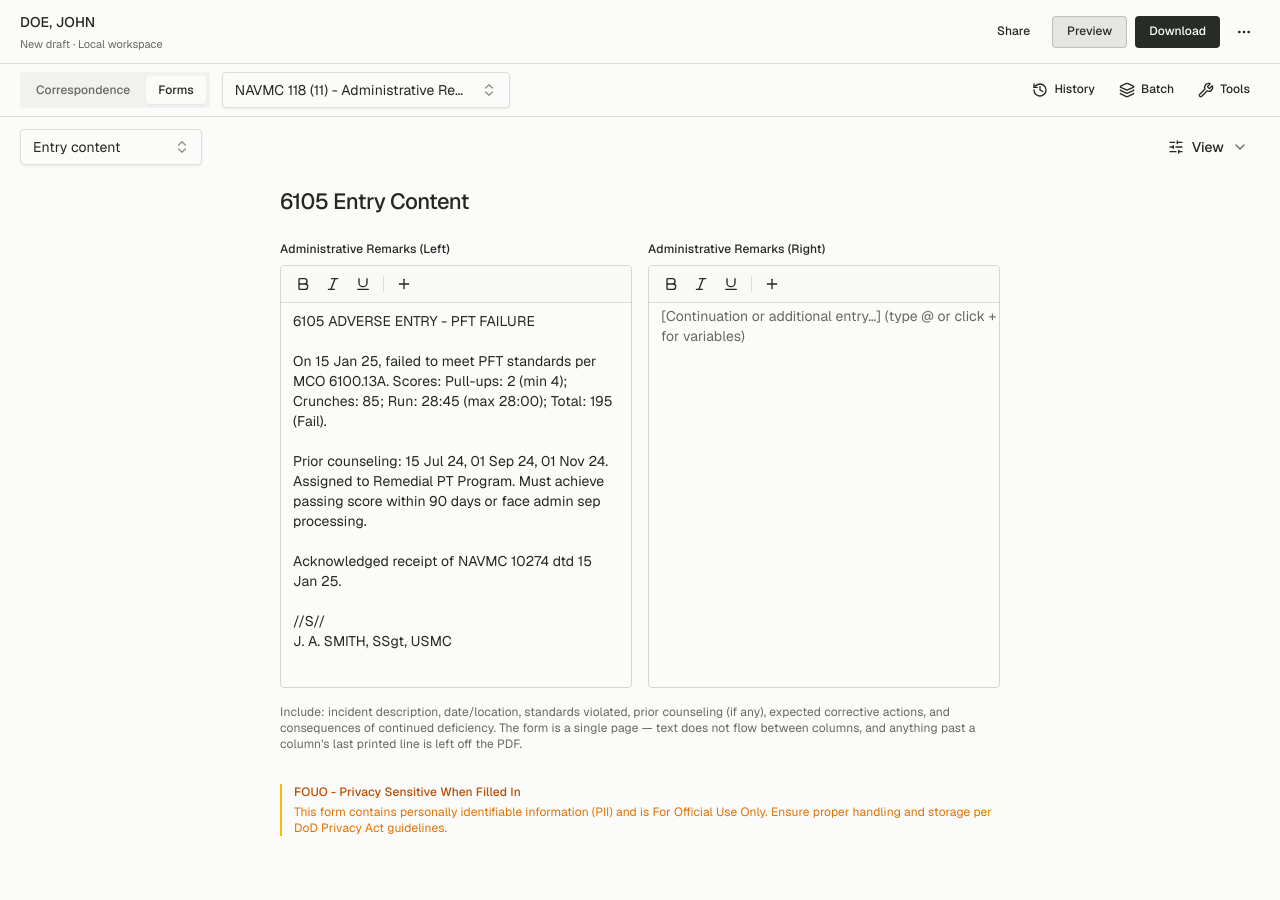
focused workspace editor › keeps all navmc_118_11 sections reachable without showing the entire form at once
Expected: the element with id "sec-content" is shown, [280,185,1000,768]
Select "Signatures" in the dropdown named "Document section" at (111, 147), box [20,129,202,165]
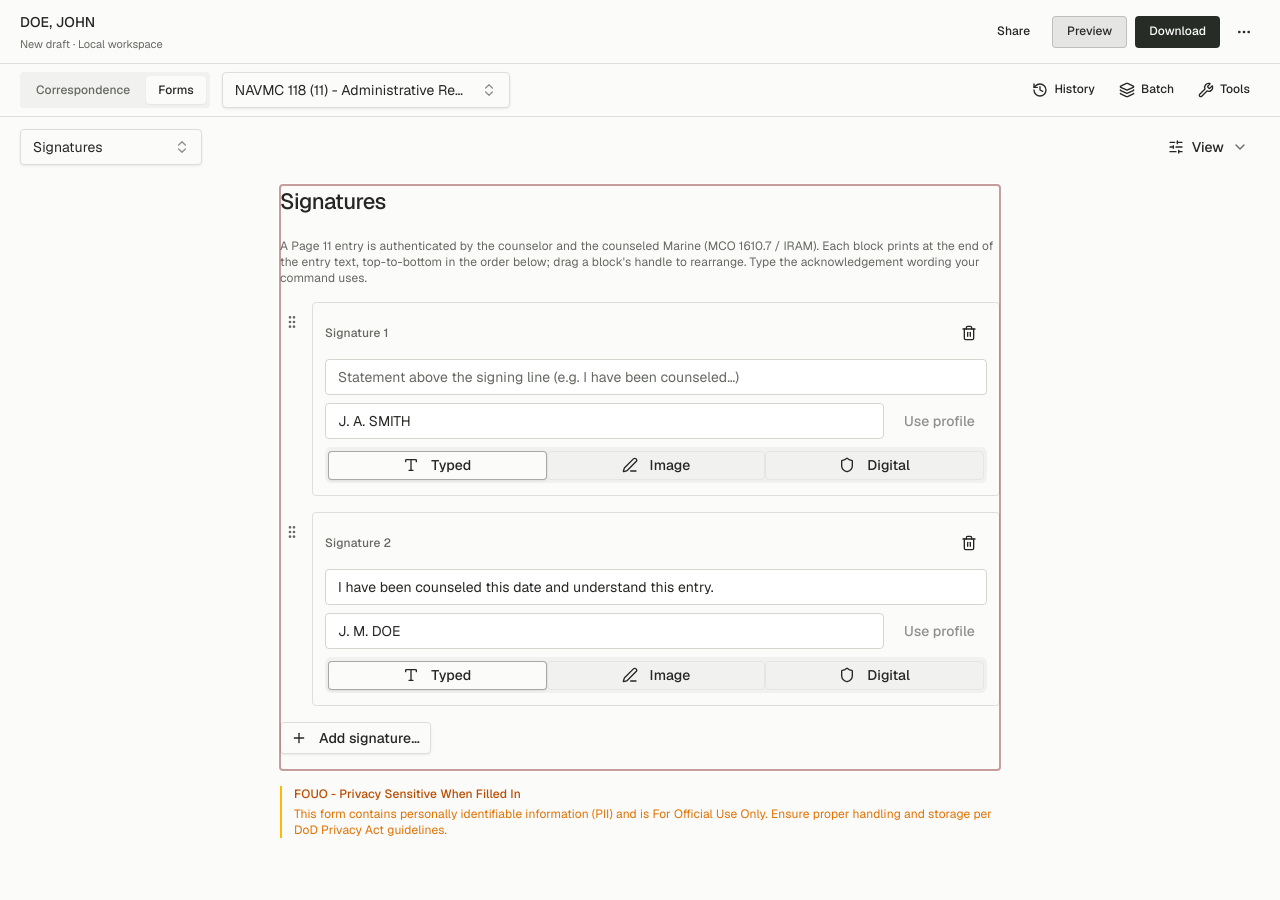
Expected: the element with id "sec-signatures" is shown, [280,185,1000,770]
Expected: the element with id "sec-content" is gone
Select "Marine identification" in the dropdown named "Document section" at (111, 147), box [20,129,202,165]
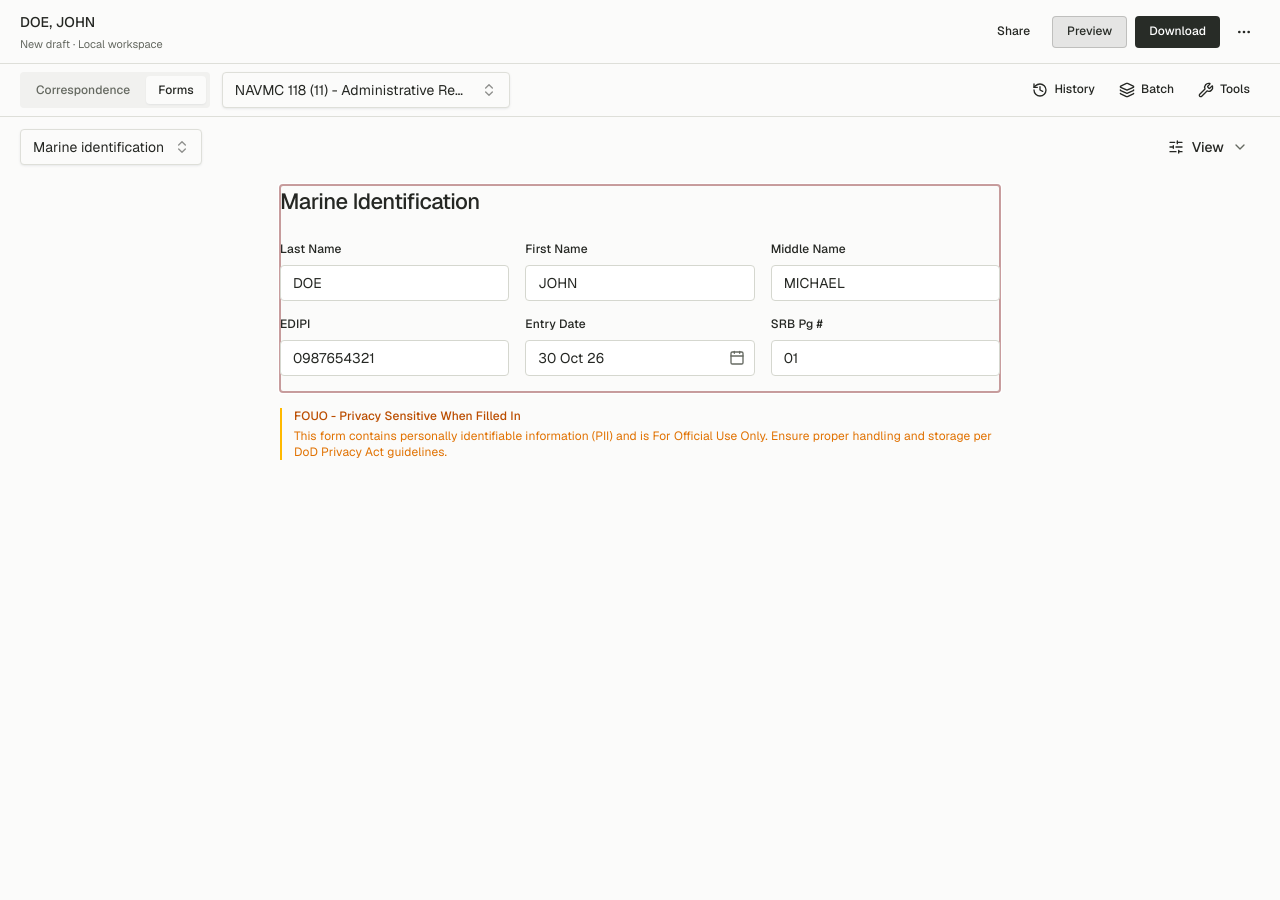
Expected: the element with id "sec-signatures" is gone
